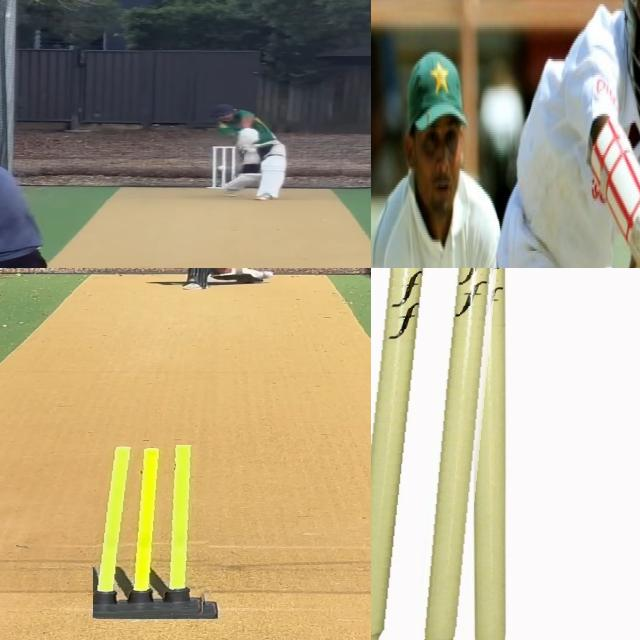Cricket ball: (217, 164, 230, 172)
Stumps: (371, 268, 512, 640), (93, 445, 219, 619), (208, 144, 236, 191)
